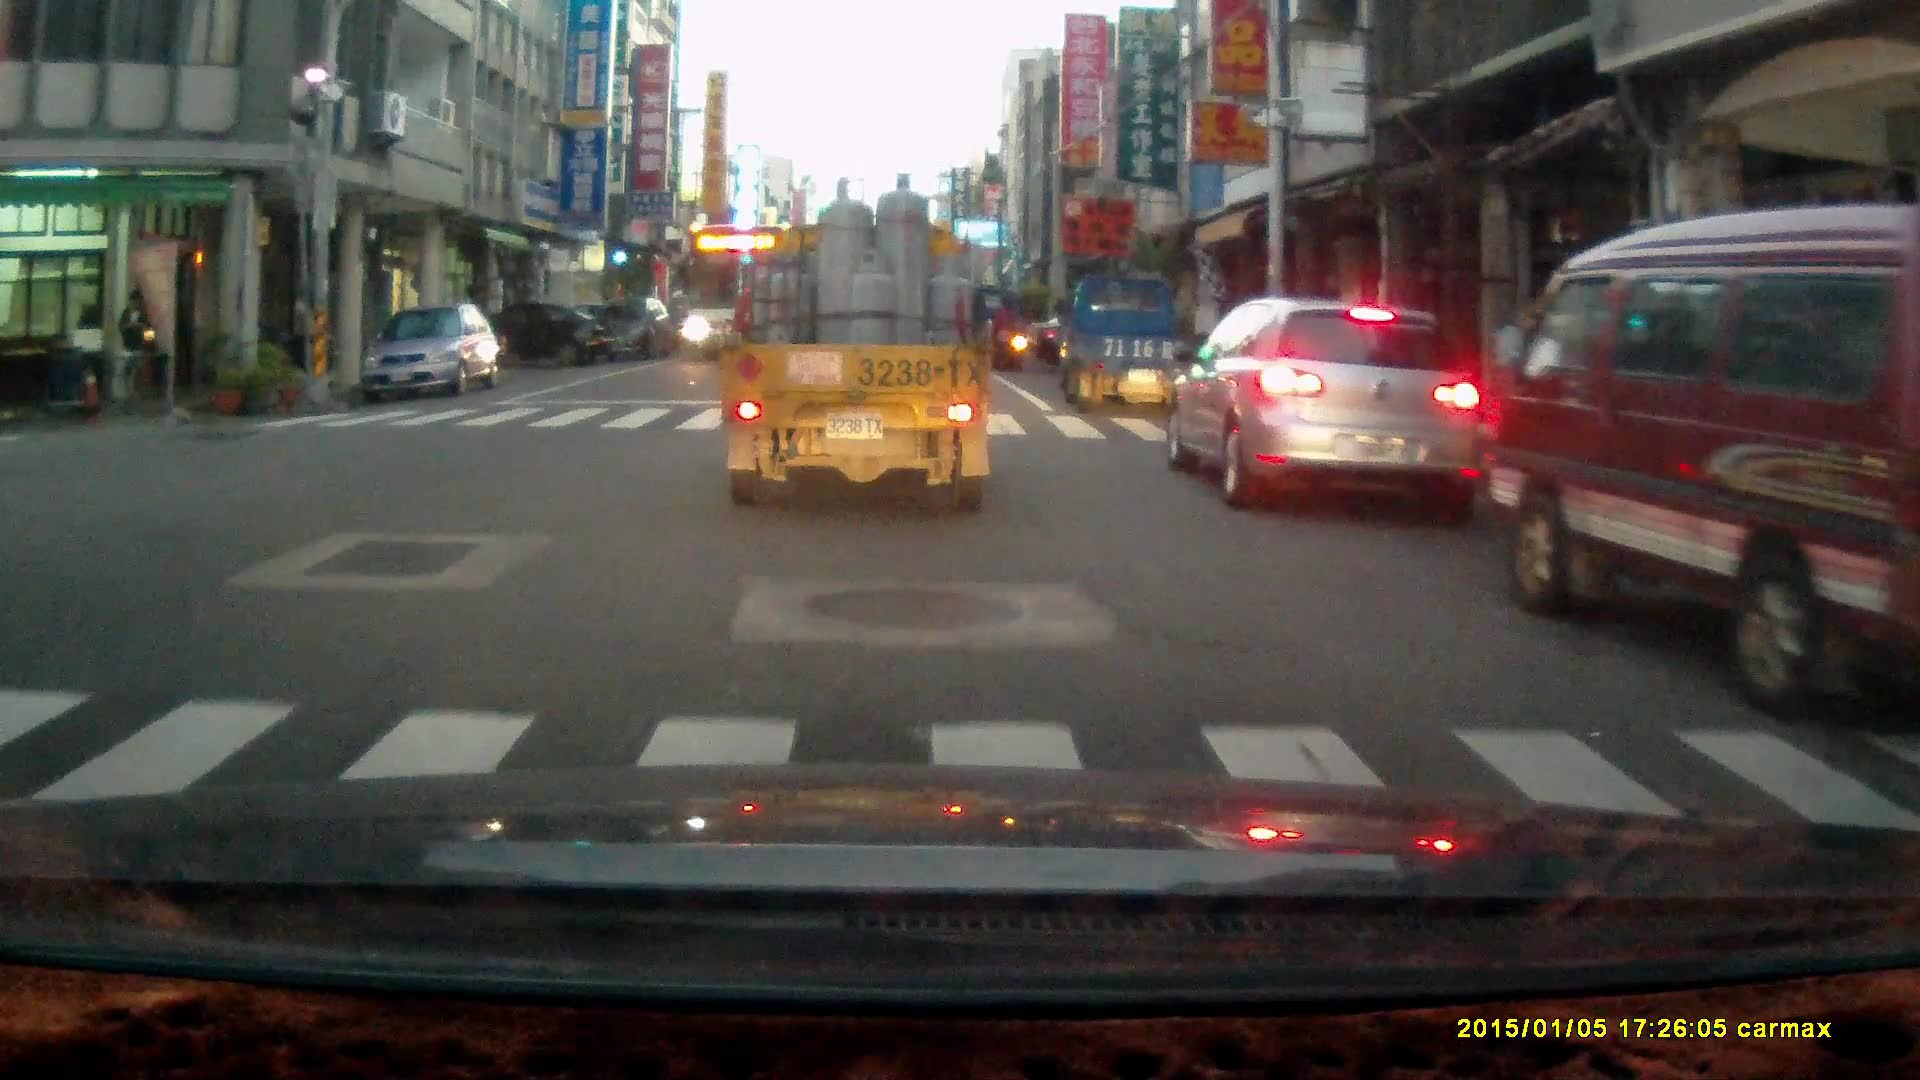pedestrian: (117, 286, 153, 411), (990, 295, 1015, 369)
vehicle: (1478, 202, 1920, 715), (720, 171, 993, 515), (1169, 292, 1482, 516), (1061, 272, 1200, 411), (679, 220, 808, 369), (356, 299, 504, 401), (453, 297, 608, 365), (591, 295, 678, 365)
